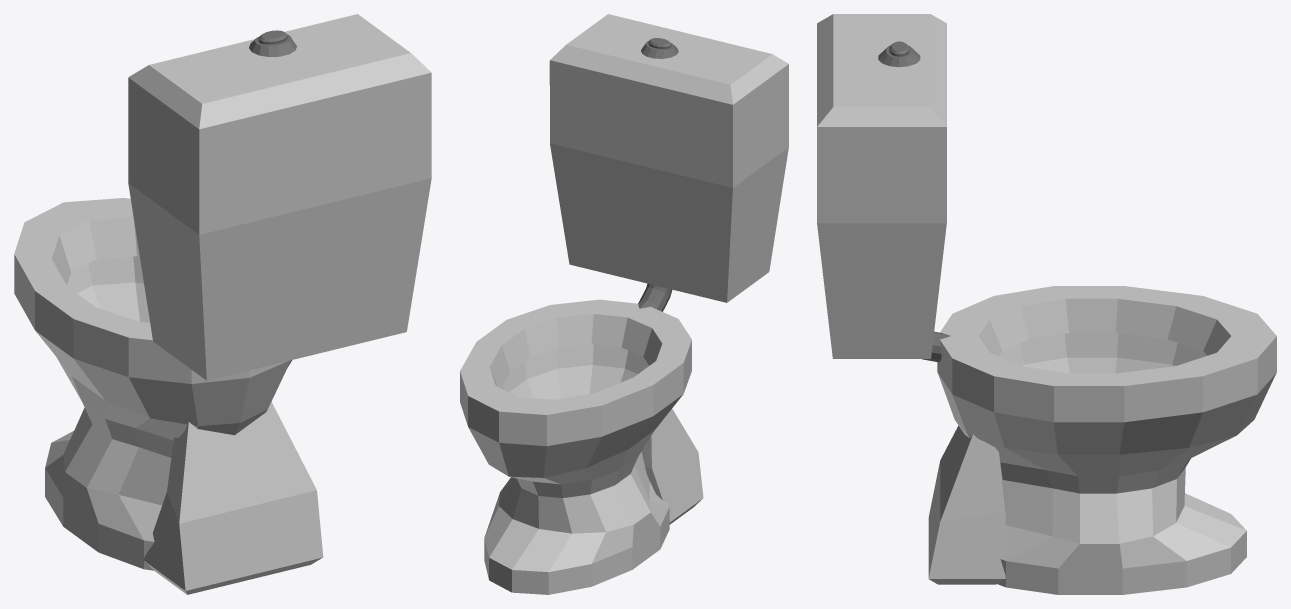
3 renders of one model, left to right at view 1: azimuth 30°, elevation 25°; view 2: azimuth 150°, elevation 25°; view 3: azimuth 270°, elevation 25°, orthographic. The views are drawn at different scales.
Visible parts, largest first — view 1: WC; view 2: WC; view 3: WC.
Boxes of the visible parts, left/top/right/bottom form: WC: left=14, top=14, right=431, bottom=594; WC: left=460, top=14, right=788, bottom=594; WC: left=817, top=14, right=1276, bottom=594.
Bounding box in the file's own units: 73.28 × 169 × 137.
